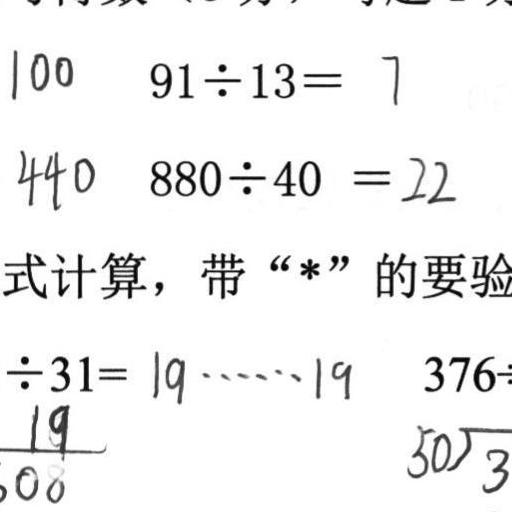ans: (145, 345, 353, 405), (13, 145, 96, 211), (4, 43, 73, 97), (396, 149, 455, 205), (375, 46, 403, 105)
